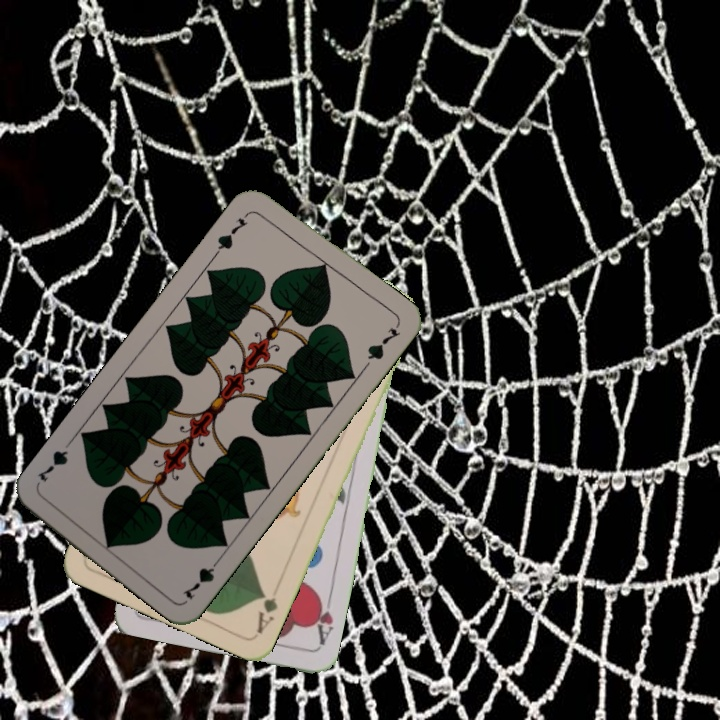G7: (178, 552, 224, 602), (211, 208, 253, 258)
GA: (252, 588, 281, 637)
HA: (308, 589, 336, 648)
